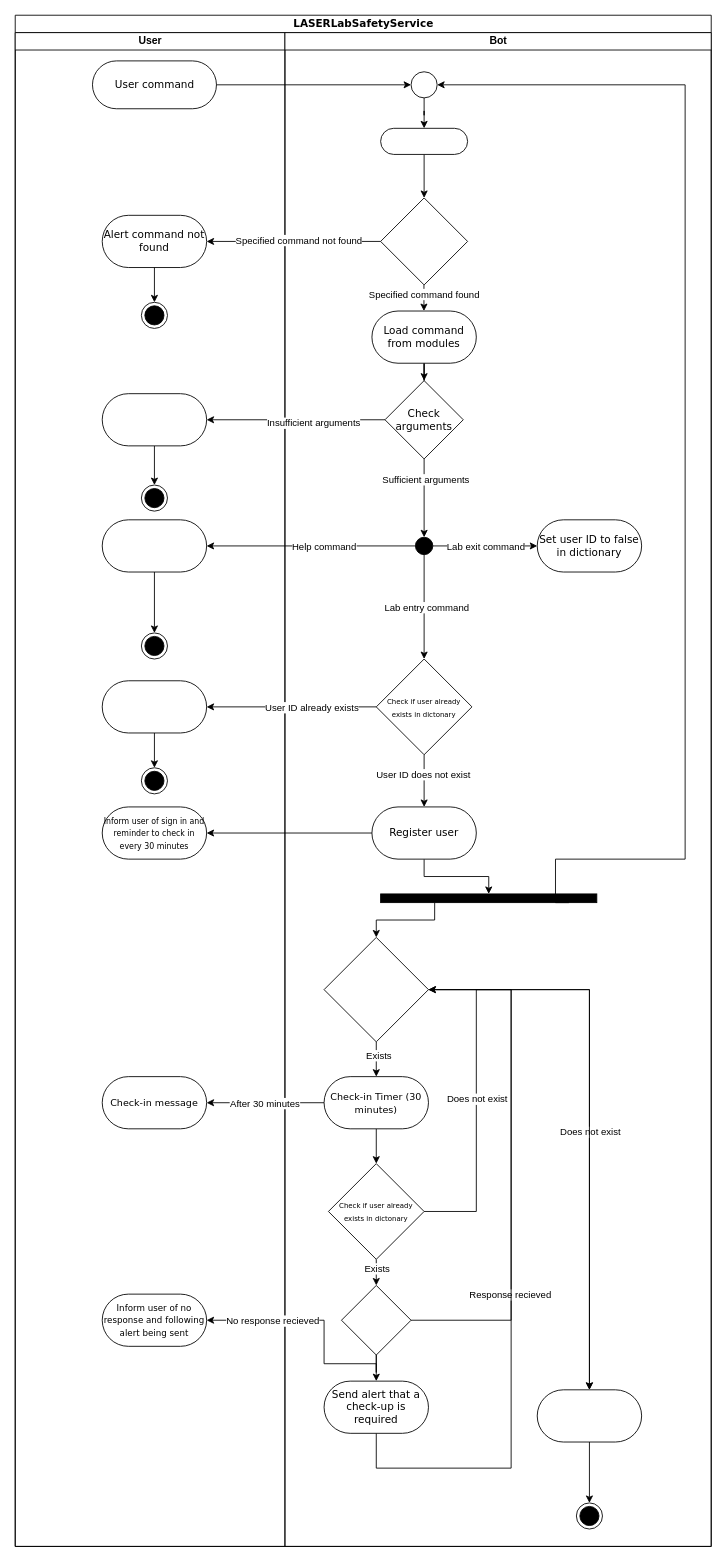
This 726x1562 diagram has some shape labels left out. The shapes that lost their labels are listed below. From the top down, each one's box as (x1, y1, x2, y2) in pixels, then its label:
(380, 127, 468, 154): Receive command
(380, 197, 468, 285): Check command exists
(101, 393, 207, 446): Alert insufficient arguments
(101, 519, 207, 572): Inform user of available commands
(101, 680, 207, 733): Alert already signed in
(323, 937, 428, 1042): While user exists in dictionary
(341, 1285, 411, 1355): User response
(536, 1389, 642, 1442): Remove user from dictionary
